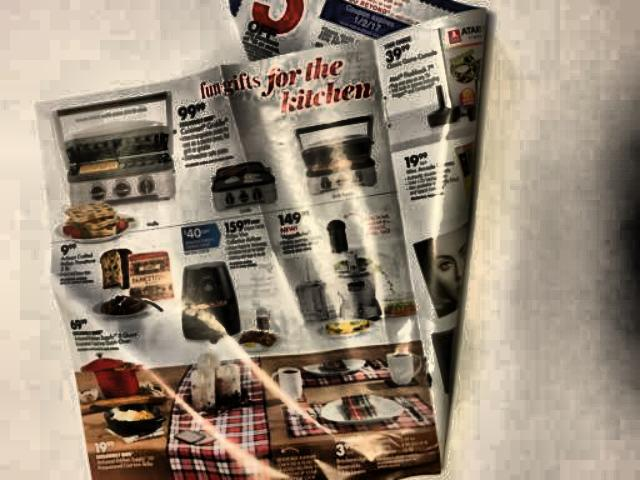Paper: (22, 0, 499, 480)
